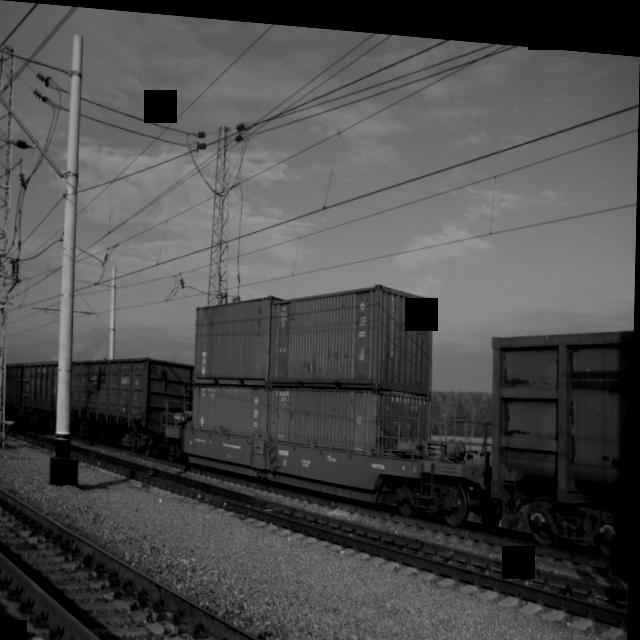container: (270, 267, 439, 395), (268, 374, 435, 445), (192, 282, 275, 387), (192, 378, 271, 433)
flatcar: (163, 417, 491, 524)
gondola: (489, 285, 636, 552), (22, 343, 196, 450)
